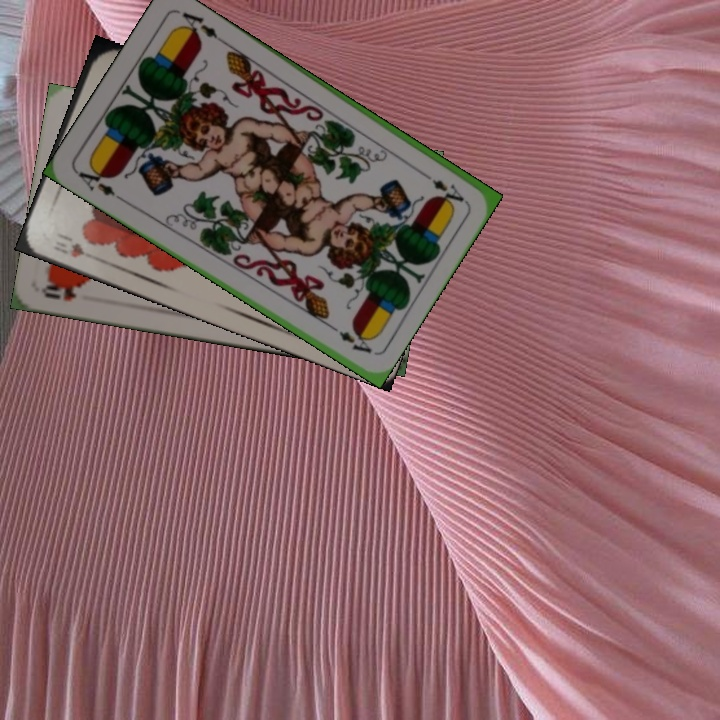EA: (73, 161, 126, 203), (416, 167, 467, 205)
H10: (48, 229, 88, 261)
HO: (38, 278, 84, 304)
